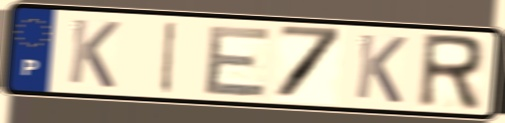7: (276, 22, 346, 104)
E: (200, 24, 275, 98)
I: (157, 19, 180, 95)
K: (352, 31, 410, 106), (65, 16, 123, 91)
R: (414, 31, 487, 113)
